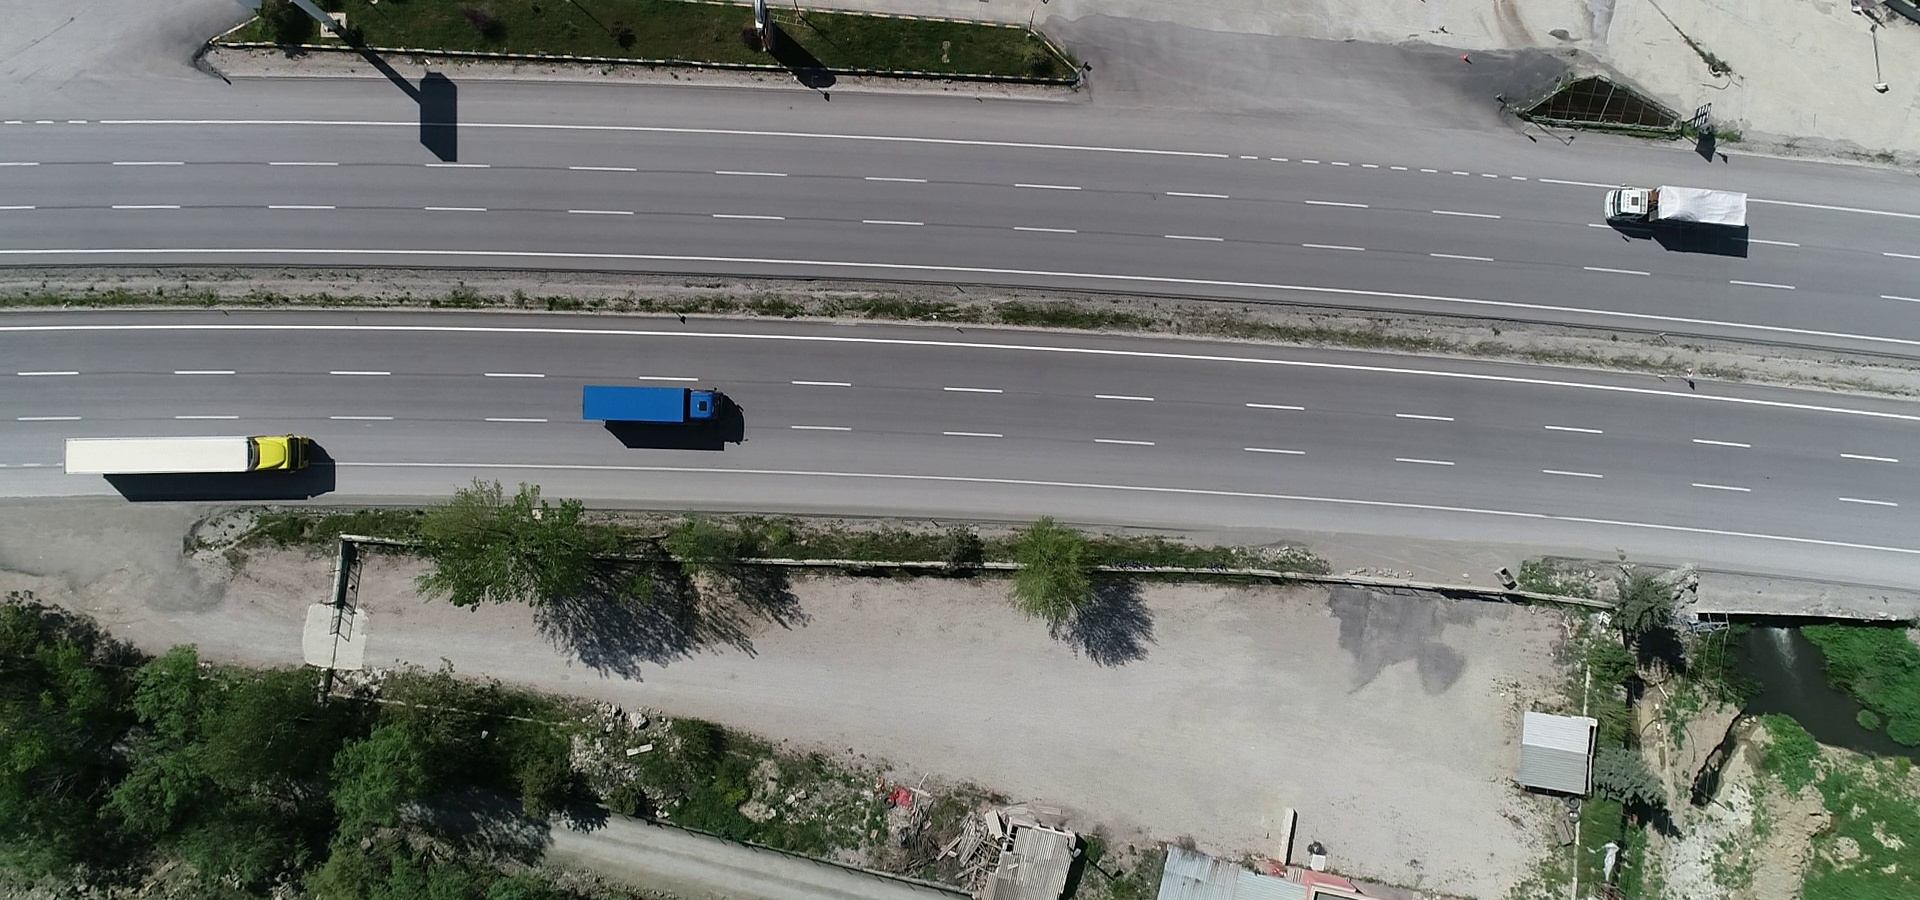kamyon: (60, 421, 333, 493), (1600, 181, 1764, 238), (576, 380, 730, 437)
